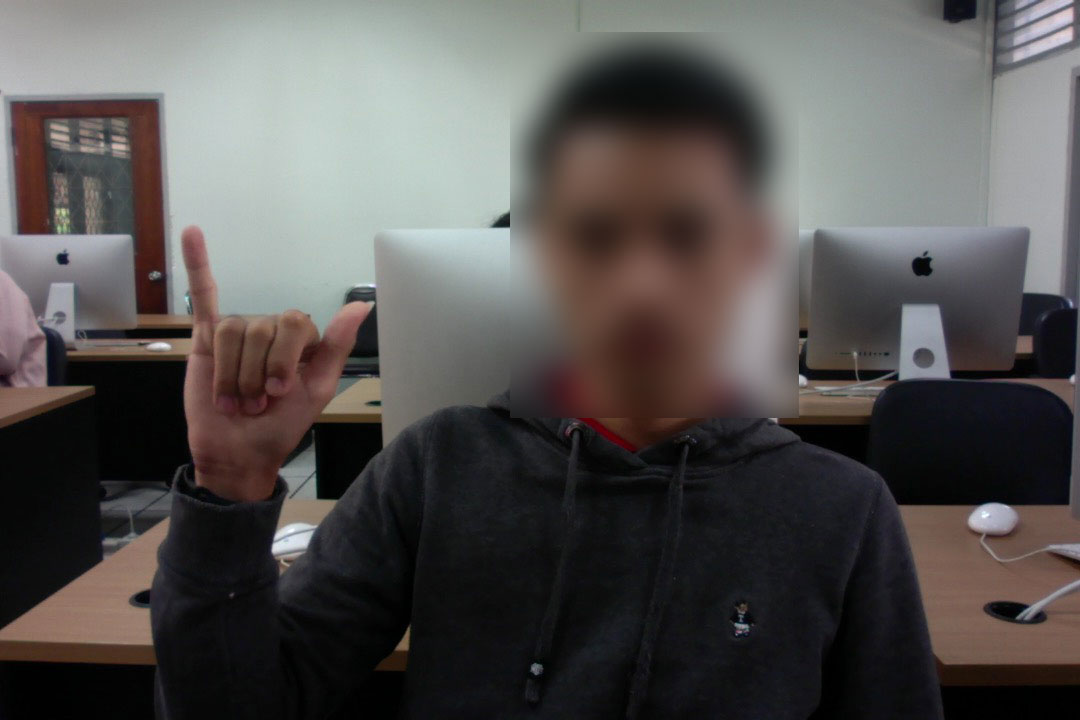yor: (166, 218, 385, 495)
